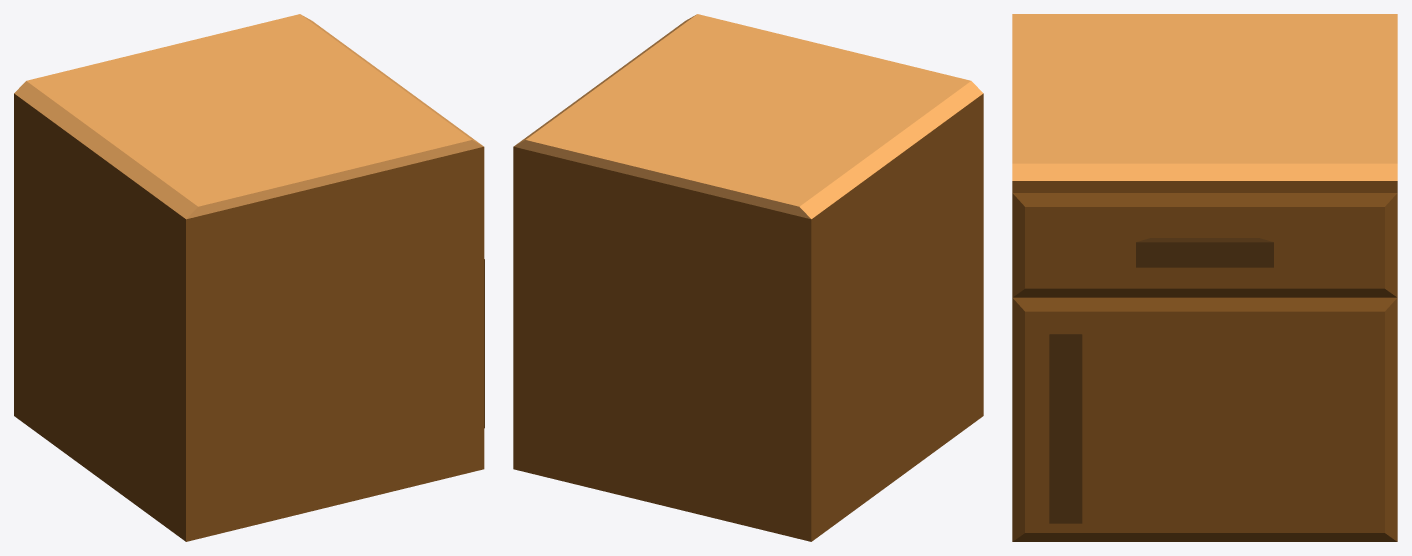
File: cupboard_bottom (1) 1.fbx
3 views of the same model, side by side, from view 1: azimuth 30°, elevation 25°; view 2: azimuth 150°, elevation 25°; view 3: azimuth 270°, elevation 25° (orthographic). The views are drawn at different scales.
Visible parts, largest first — view 1: Cube.009; view 2: Cube.009; view 3: Cube.009.
Part boxes in pixels (x1=…): Cube.009: x1=14, y1=14, x2=484, y2=541; Cube.009: x1=513, y1=14, x2=983, y2=541; Cube.009: x1=1012, y1=14, x2=1397, y2=541.
Bounding box in the file's own units: 945 × 950 × 892.
